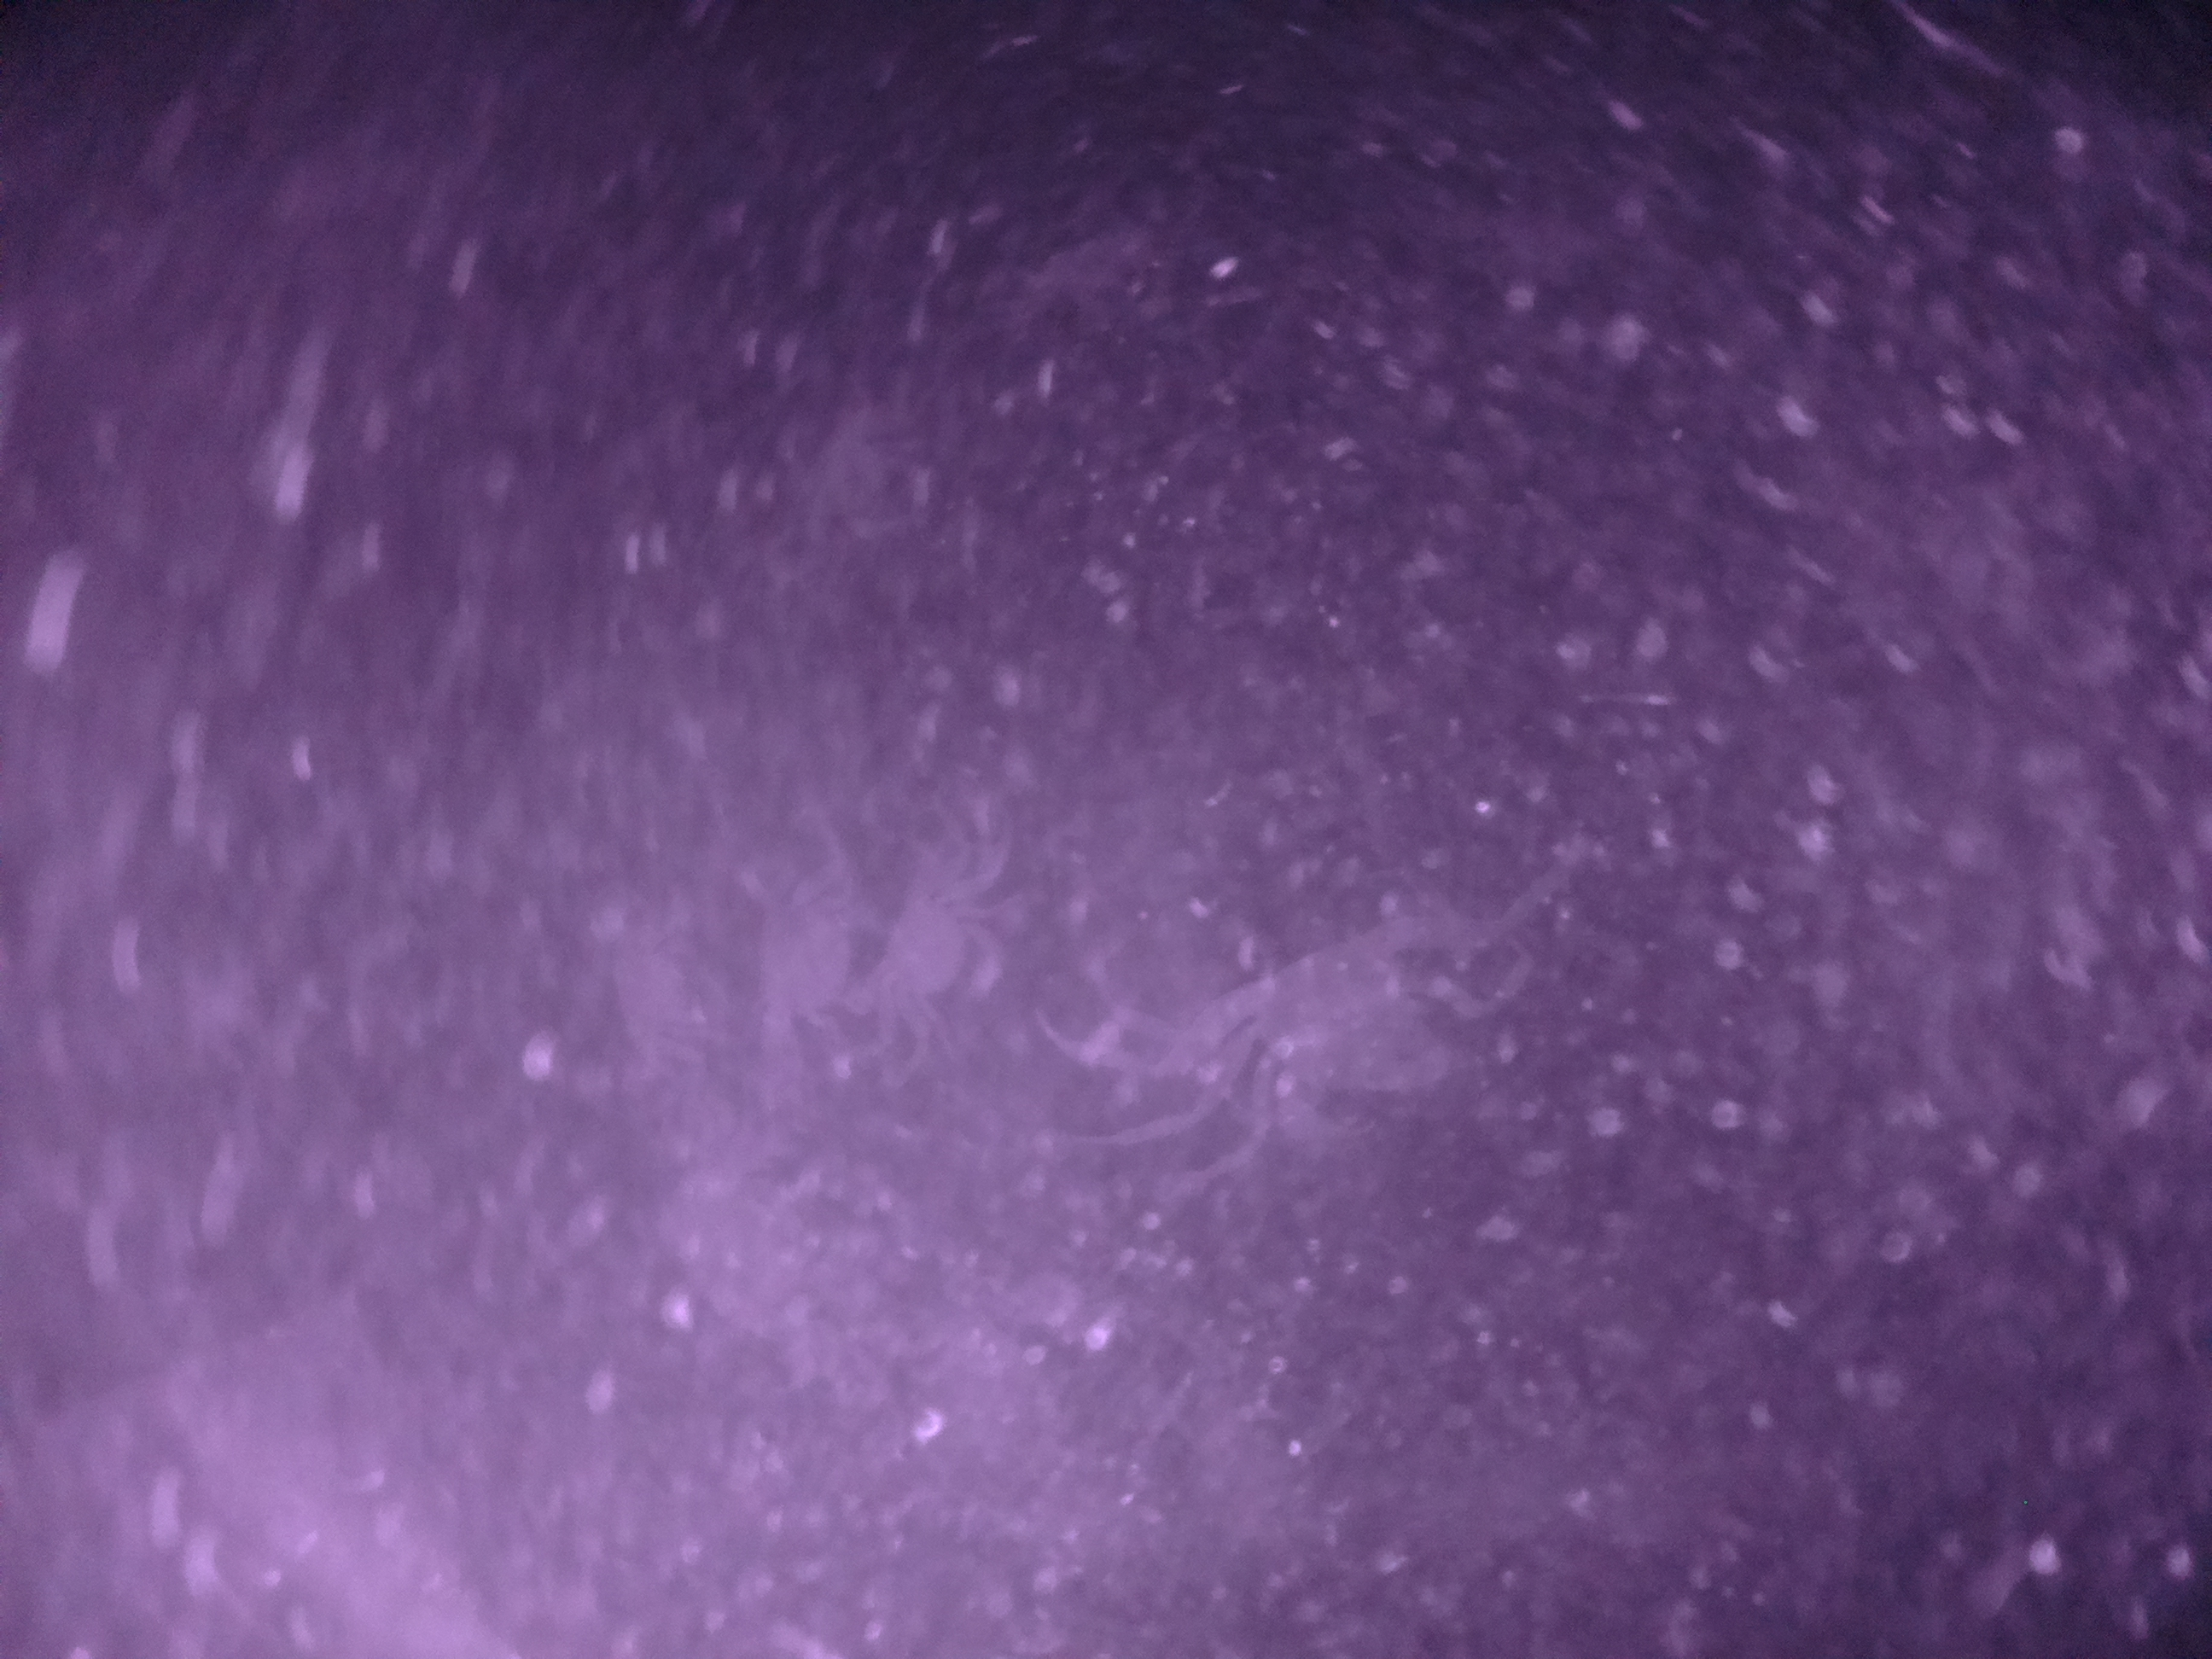Crab: (1148, 866, 1487, 1157), (853, 819, 1005, 1089)
